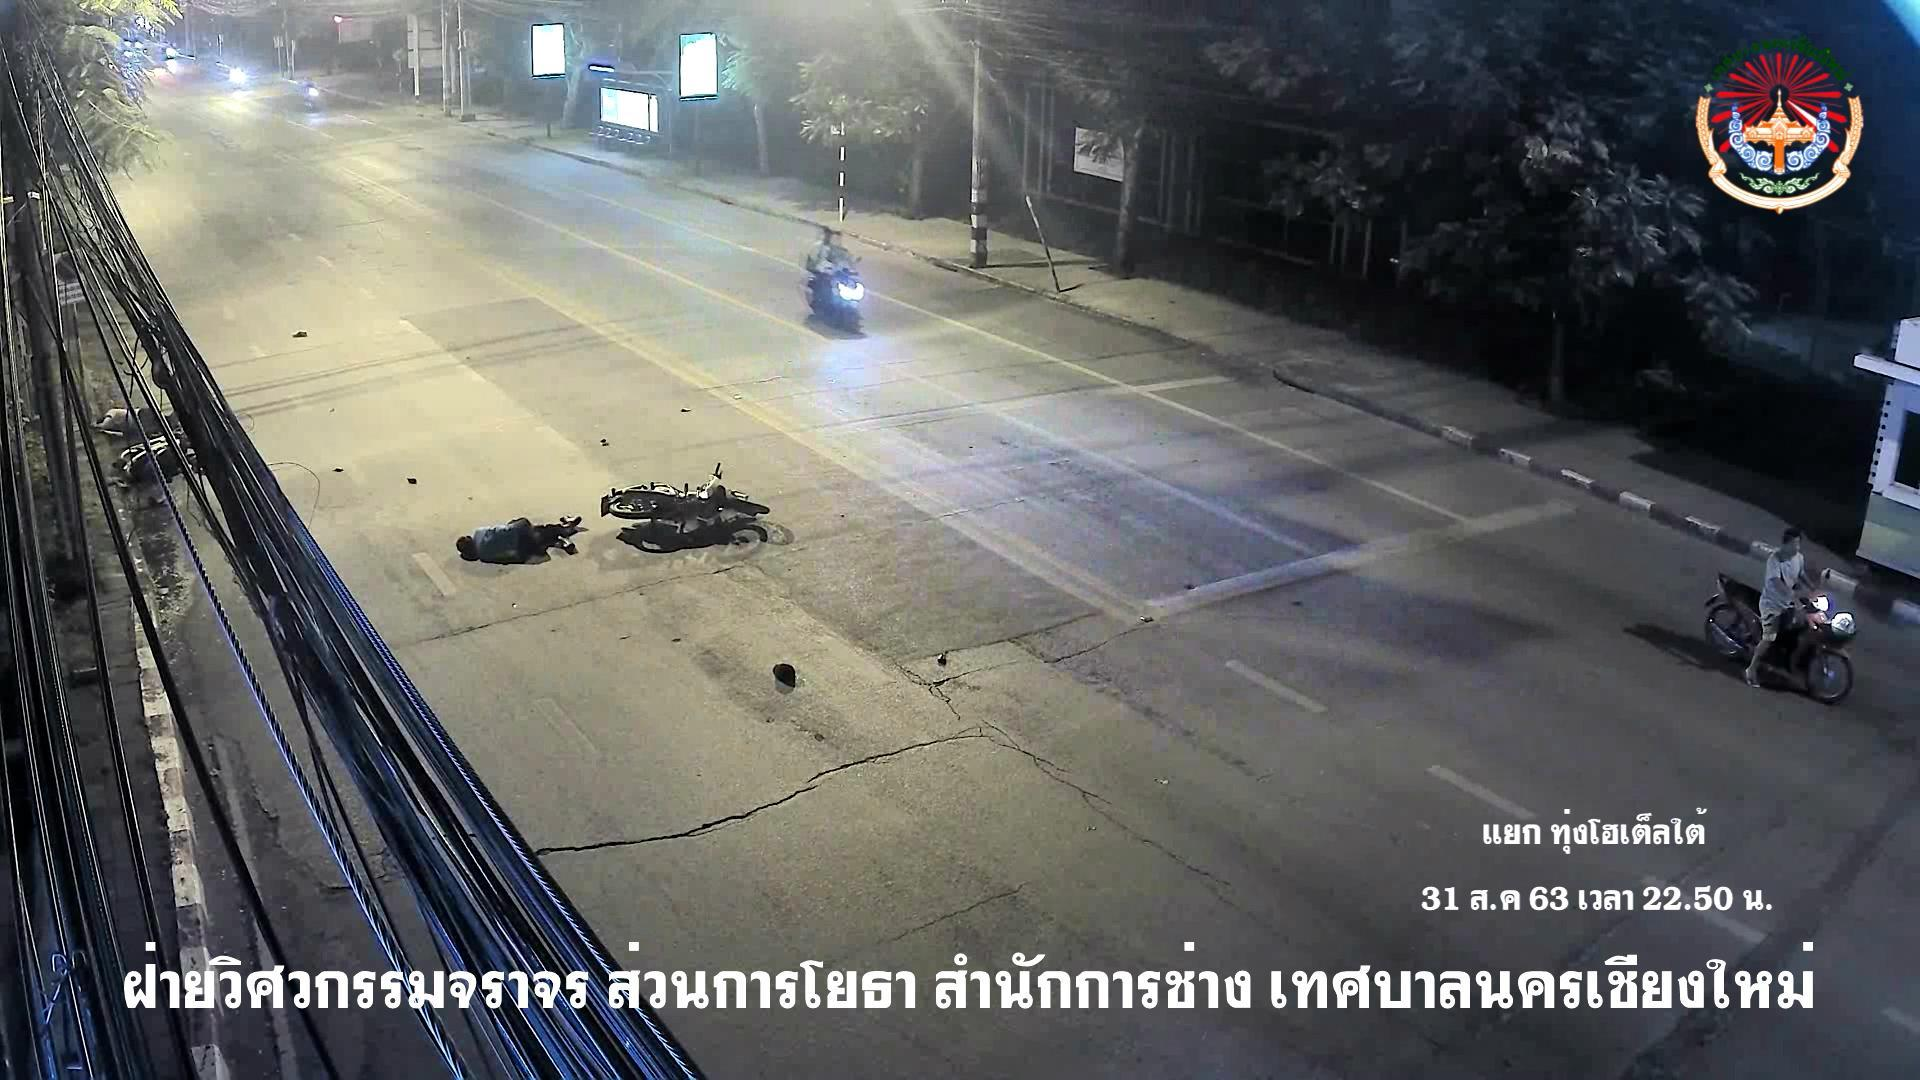accident: (446, 505, 587, 574)
